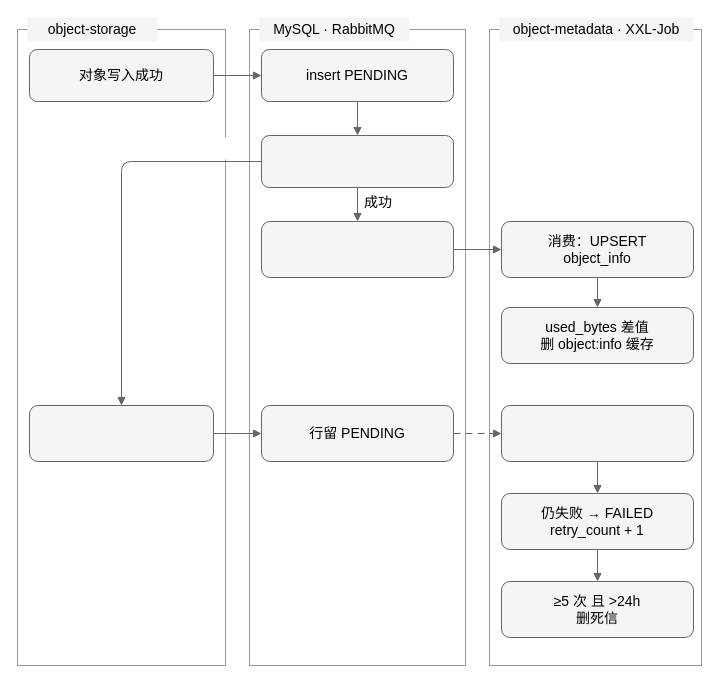
Some shapes in this 719 by 683 pixel diagram are drawn without their labels. The shapes that lost their labels are listed below. From the top down, each one's centre as x and y in pixels, then its label:
At [205,148]: "投递失败".
At [357,161]: "发 object.created".
At [357,249]: "投递成功 行 → SUCCESS".
At [121,433]: "MQ 异常 回滚对象".
At [597,433]: "重投 ≤5 次 每 30 秒扫".
